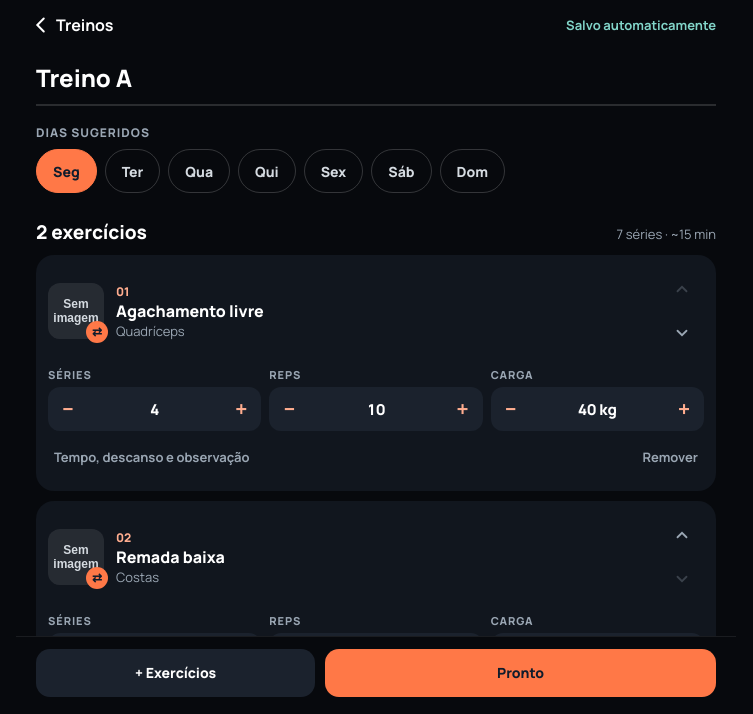
it: WorkoutEditor (FIT-146) › + e − agrupam toques e salvam o item sozinho, com carga em kg
Click the button named "Aumentar carga": (684, 409) x1=664 y1=387 x2=704 y2=431
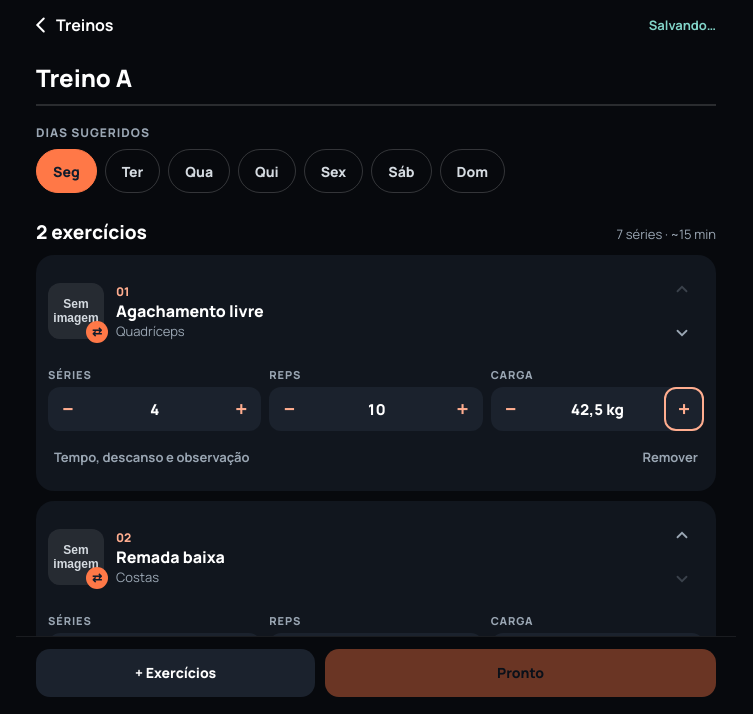
Click the button named "Aumentar carga": (684, 409) x1=664 y1=387 x2=704 y2=431
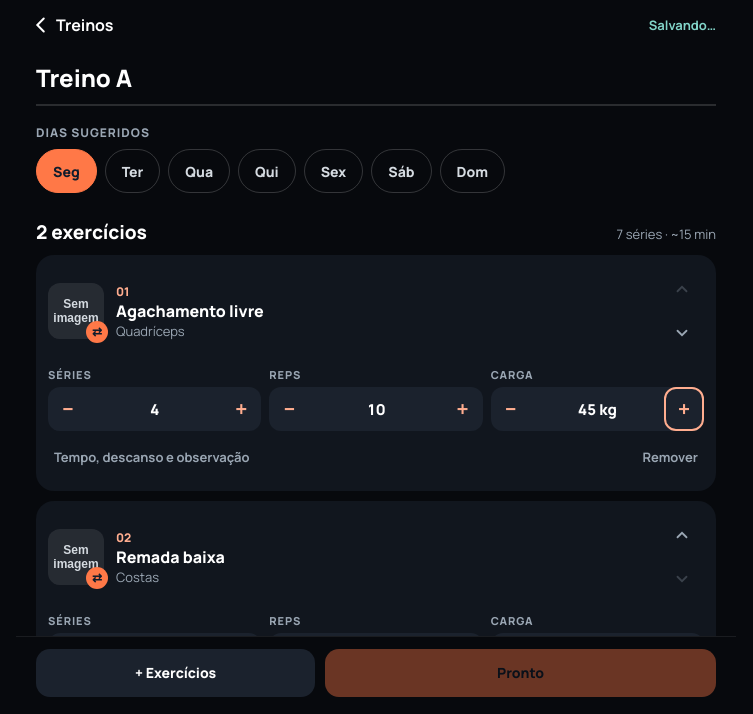
Click the button named "Aumentar séries": (241, 409) x1=221 y1=387 x2=261 y2=431
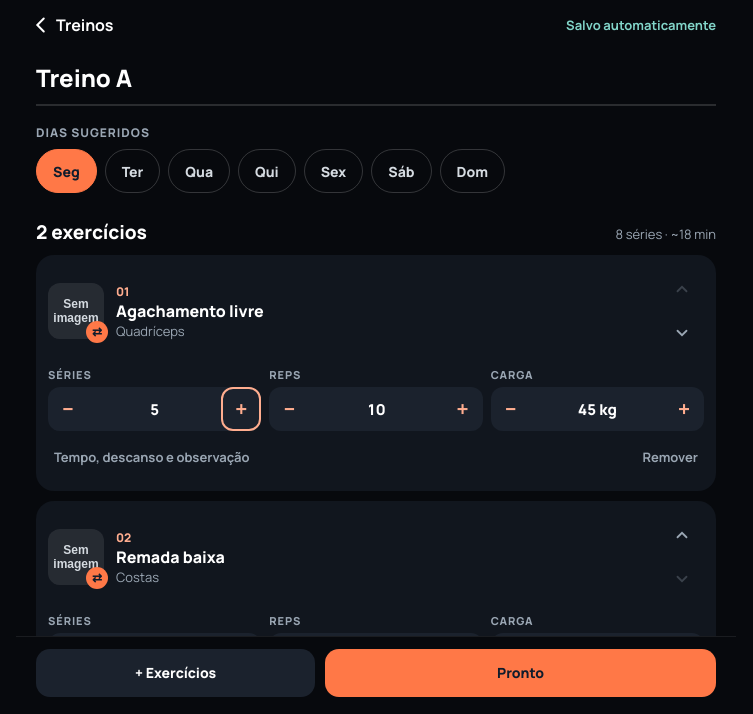
Result: the text "45 kg" is shown at x1=578 y1=398 x2=617 y2=420
Result: the text "Salvo automaticamente" is shown at x1=566 y1=16 x2=716 y2=34
